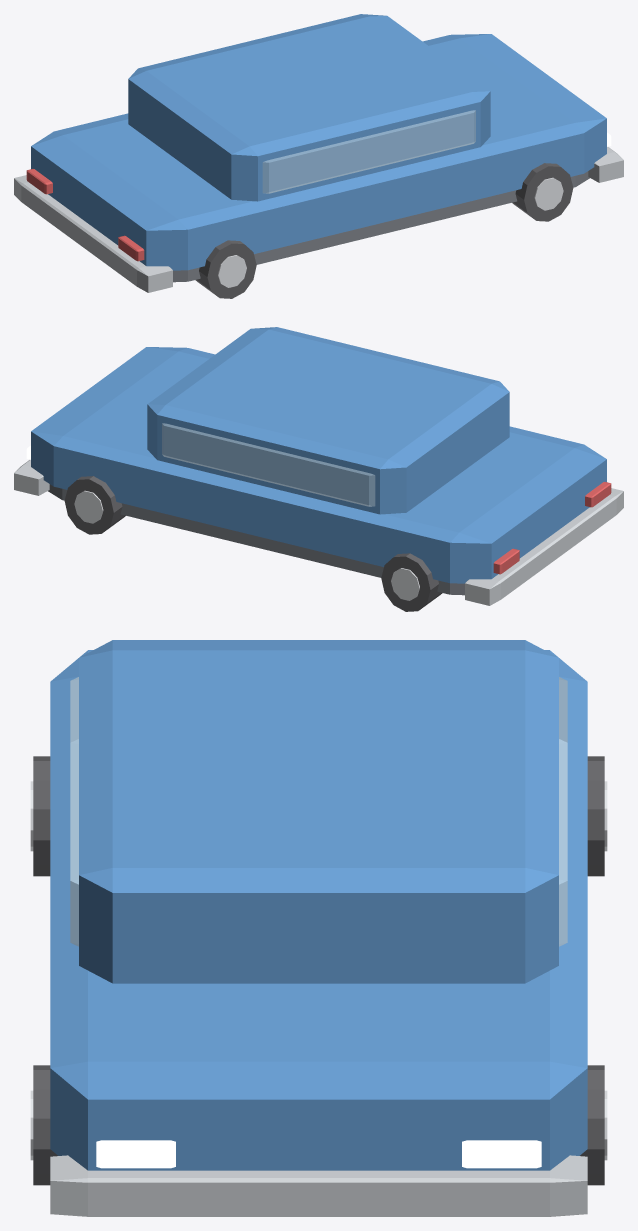
File: b03_midengine_sports_coupe.glb
The picture shows the model from 3 angles, top to bottom: view 1: azimuth 30°, elevation 25°; view 2: azimuth 150°, elevation 25°; view 3: azimuth 270°, elevation 25°; orthographic projection. The views are drawn at different scales.
Visible parts, largest first — view 1: b03_midengine_sports_coupe; view 2: b03_midengine_sports_coupe; view 3: b03_midengine_sports_coupe.
Boxes of the visible parts, bbox=[...] form: b03_midengine_sports_coupe: bbox=[14, 14, 623, 298]; b03_midengine_sports_coupe: bbox=[14, 327, 623, 611]; b03_midengine_sports_coupe: bbox=[30, 640, 607, 1216].
Size of the model in its own units: 4.61 by 1.18 by 2.4.
